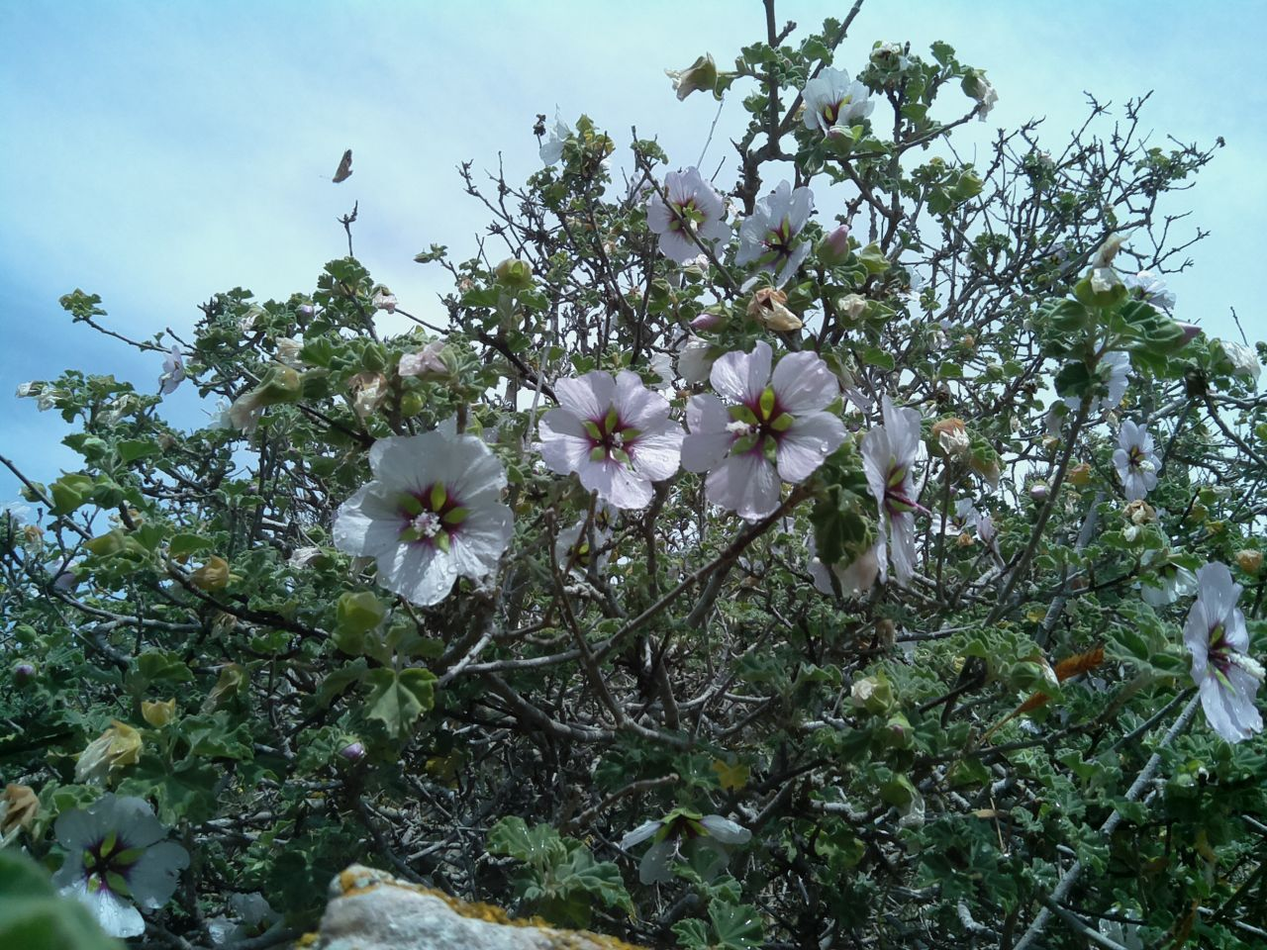Butterfly: (315, 152, 367, 189)
